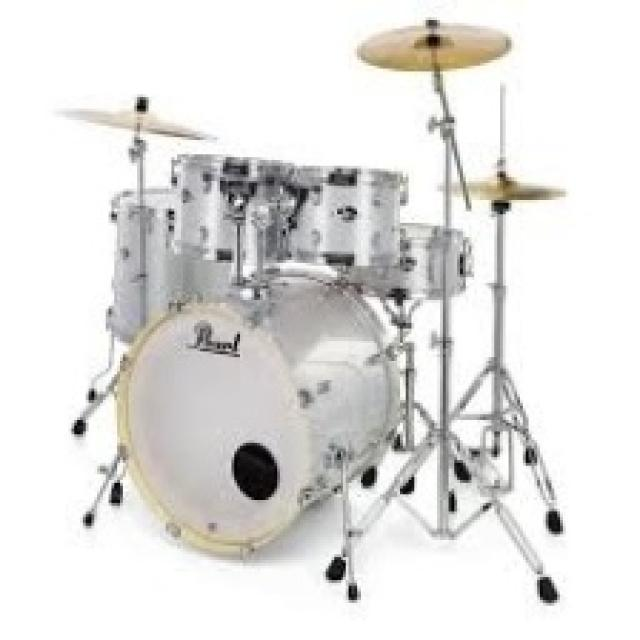drums: (49, 12, 565, 568)
